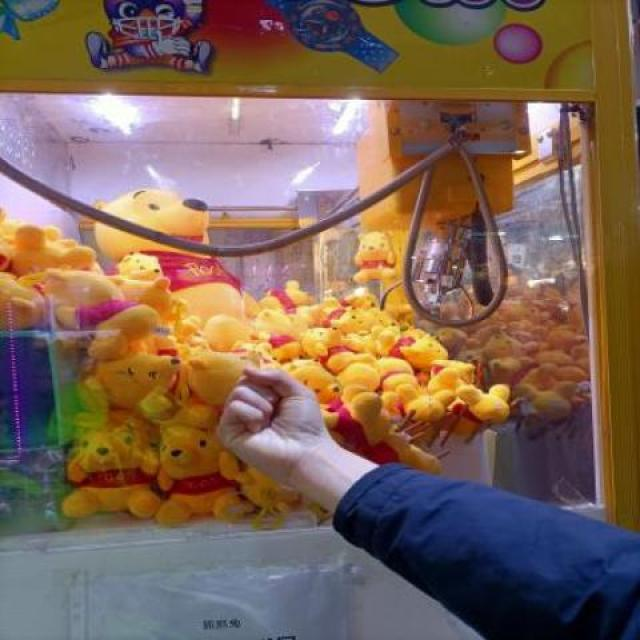Closed Hand: (217, 361, 331, 492)
